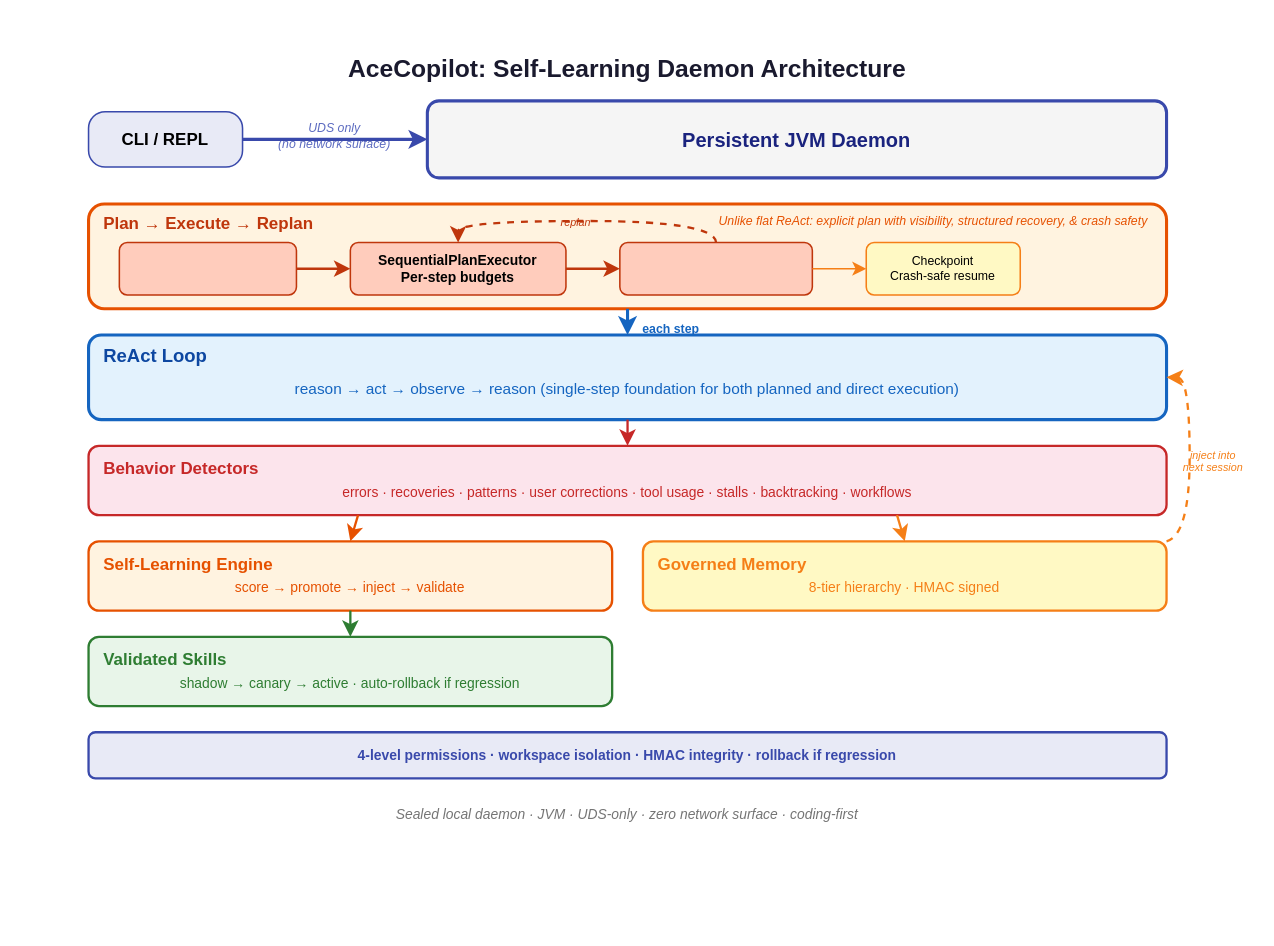
Some shapes in this 1274 by 946 pixel diagram are drawn without their labels. The centre of each missing label's shape, as x and y in pixels:
AdaptiveReplanner Revise on failure: point 715,268
LLMTaskPlanner Generate plan: point 207,268
